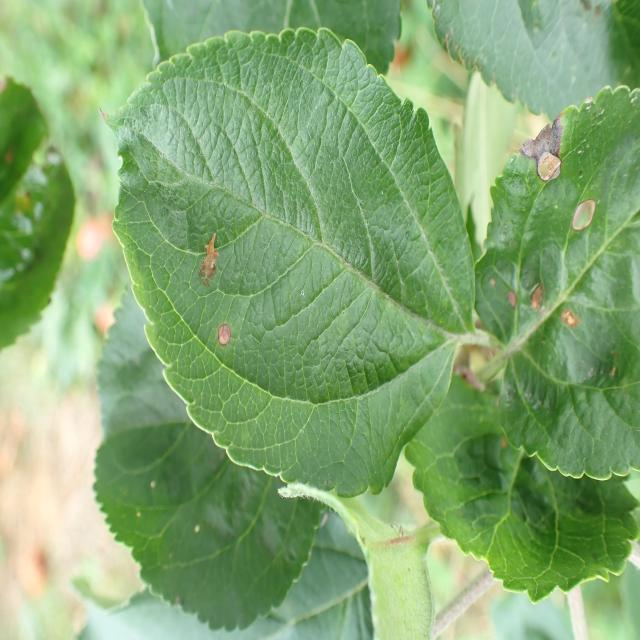frog-eye-leaf-spot: (99, 26, 478, 501), (474, 84, 640, 481)
